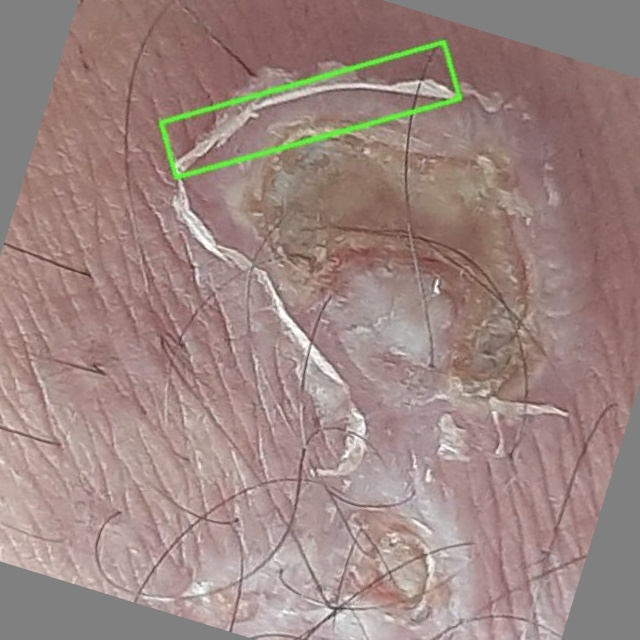Contact Dermatitis: (160, 42, 459, 177)
